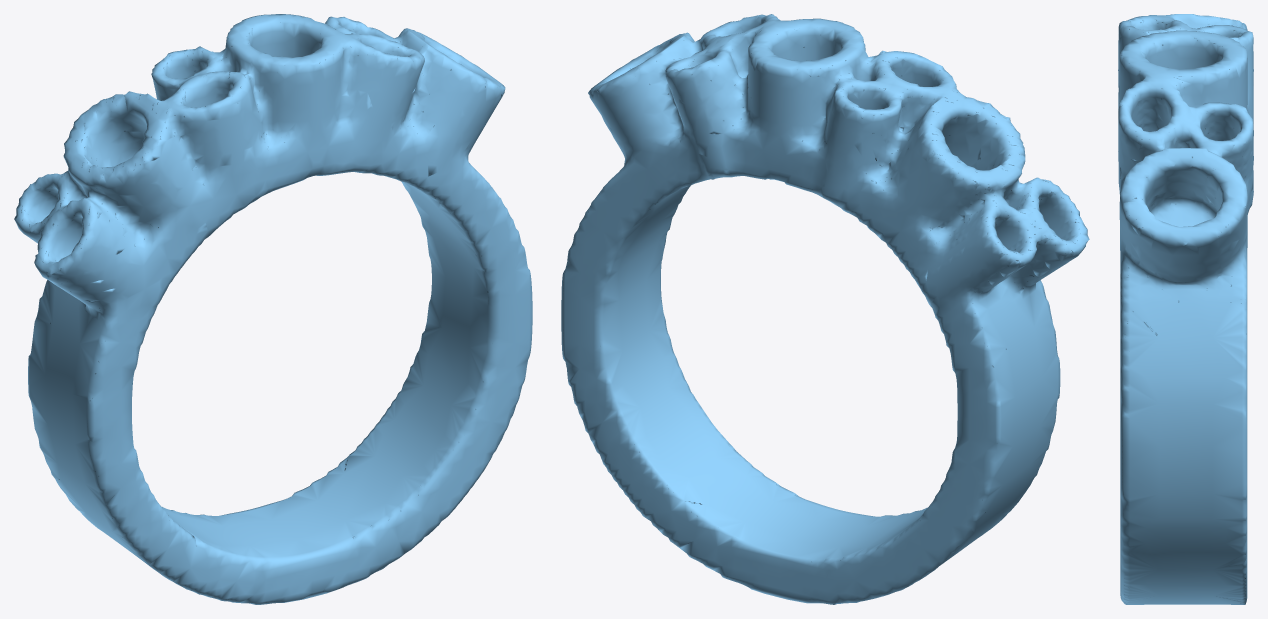
Rendered from anillo_coral1.glb.
3 views of the same model, side by side, from view 1: azimuth 30°, elevation 25°; view 2: azimuth 150°, elevation 25°; view 3: azimuth 270°, elevation 25° (orthographic).
Parts seen in each view (by area): view 1: anillo_v2_2; view 2: anillo_v2_2; view 3: anillo_v2_2.
Part boxes in pixels (bbox=[...]): anillo_v2_2: bbox=[14, 14, 532, 604]; anillo_v2_2: bbox=[561, 14, 1089, 604]; anillo_v2_2: bbox=[1118, 14, 1253, 604].
Bounding box in the file's own units: 24.89 × 26.62 × 6.18.
1 material, 1 textured.
